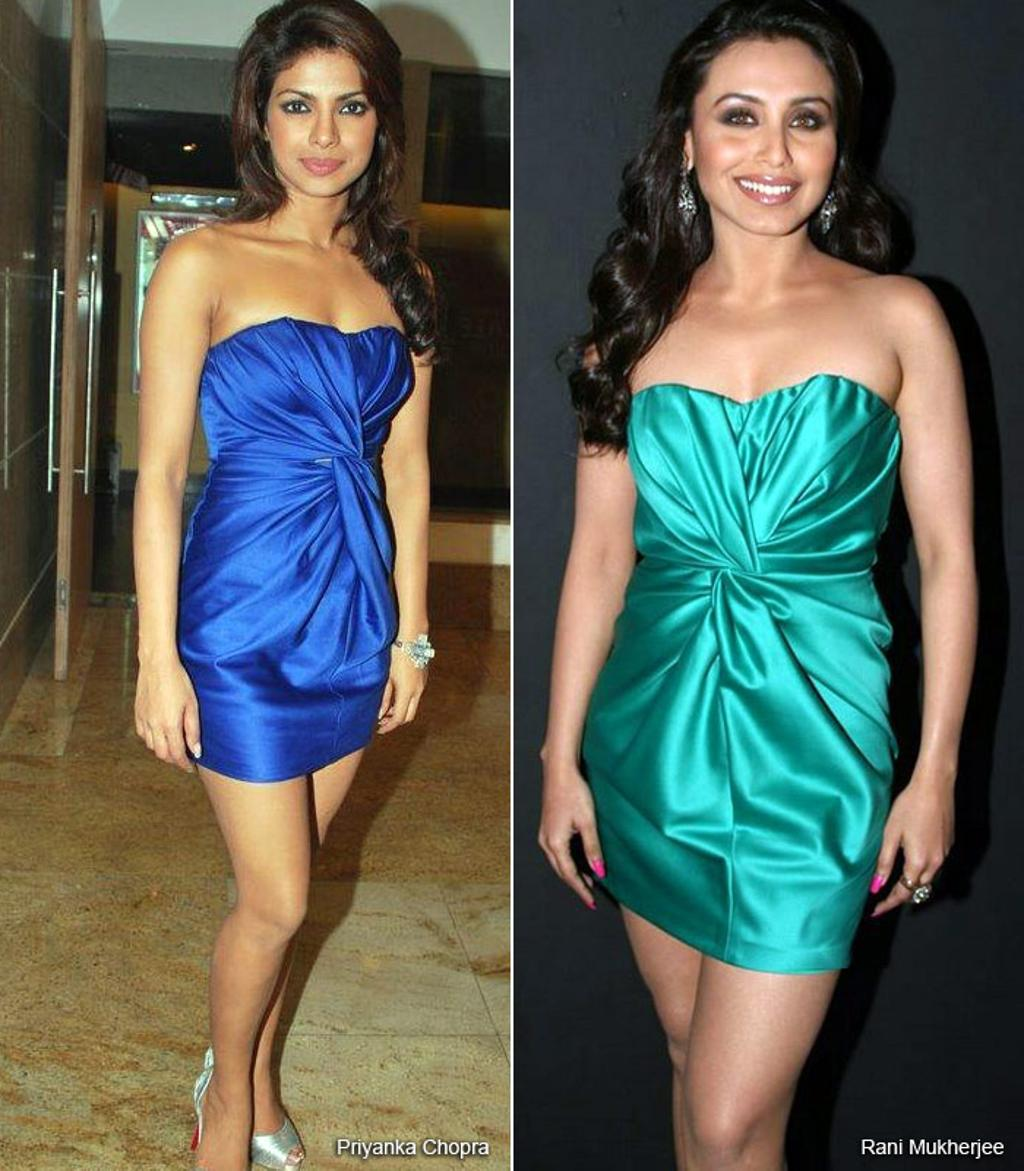face: (693, 43, 839, 230), (263, 48, 380, 197)
